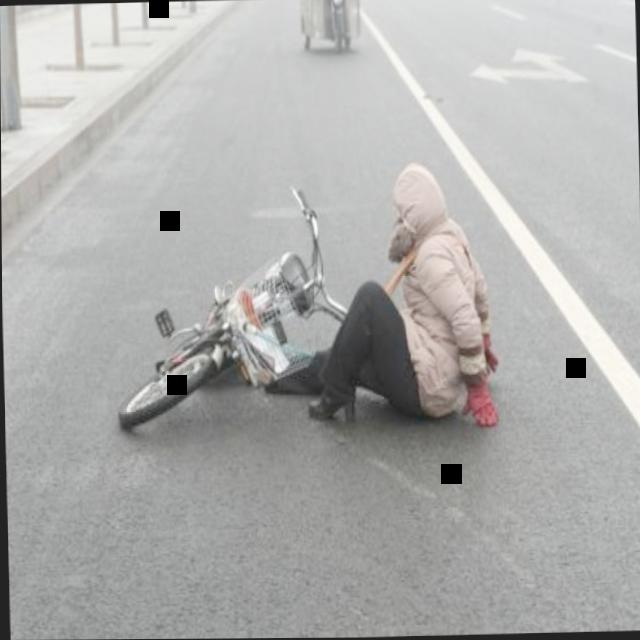Fall-Detected: (280, 147, 507, 441)
